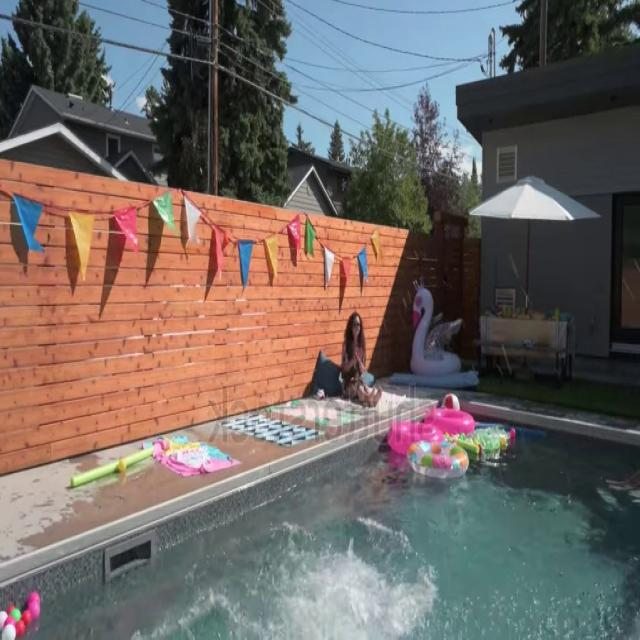adult: (340, 310, 382, 406)
